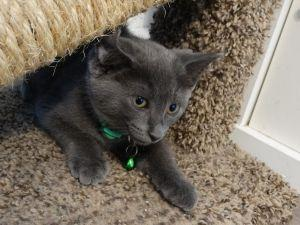rblue: (89, 20, 226, 157)
